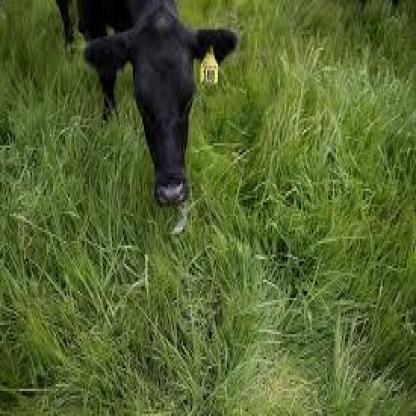cow: (53, 0, 236, 207)
